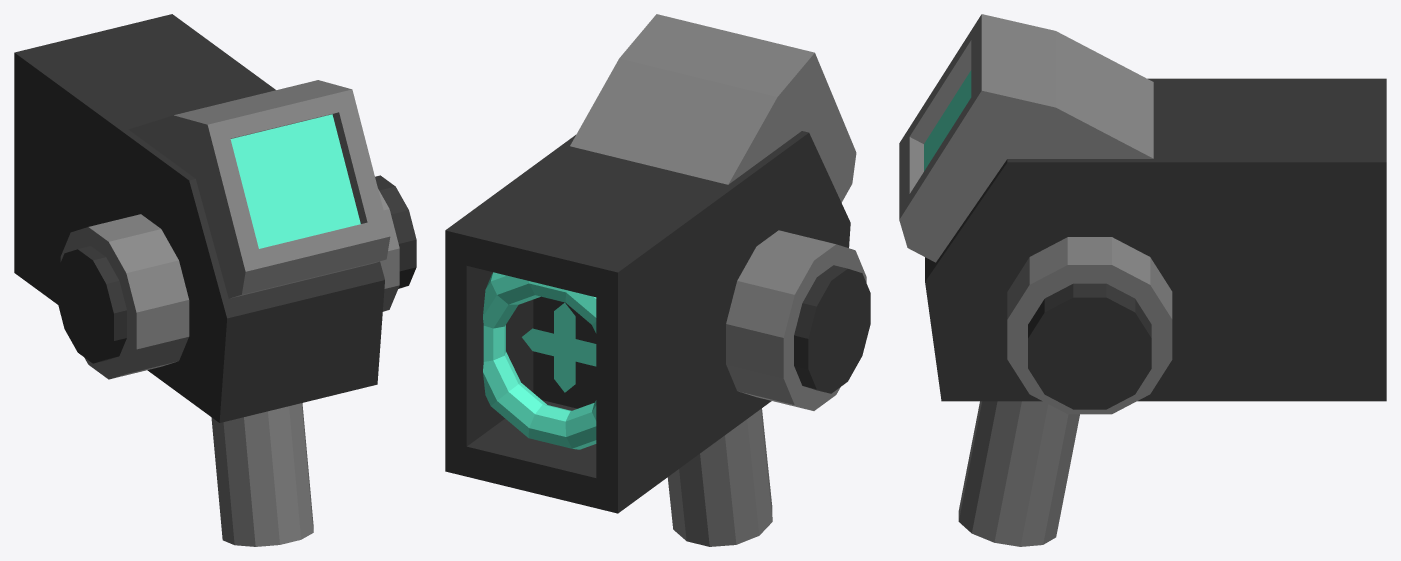
File: MAGgun.obj
3 views of the same model, side by side, from view 1: azimuth 30°, elevation 25°; view 2: azimuth 150°, elevation 25°; view 3: azimuth 270°, elevation 25° (orthographic). The views are drawn at different scales.
Parts seen in each view (by area): view 1: cuboid, cylinder, plane; view 2: cuboid, cylinder, plane; view 3: cuboid, cylinder, plane.
Part boxes in pixels (bbox=[...]): cuboid: bbox=[14, 14, 416, 422]; cylinder: bbox=[60, 80, 399, 546]; plane: bbox=[230, 114, 360, 248]; cuboid: bbox=[445, 131, 870, 513]; cylinder: bbox=[570, 14, 866, 546]; plane: bbox=[483, 272, 596, 449]; cuboid: bbox=[925, 78, 1386, 409]; cylinder: bbox=[899, 14, 1172, 546]; plane: bbox=[924, 70, 971, 170].
Size of the model in its own units: 1.44 by 2.01 by 1.85.
